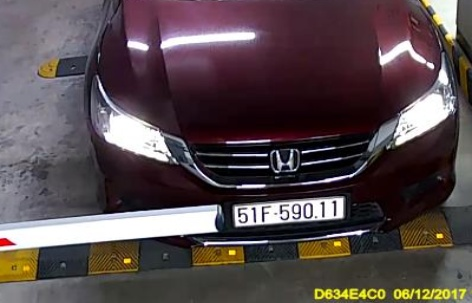plate: (231, 193, 343, 235)
